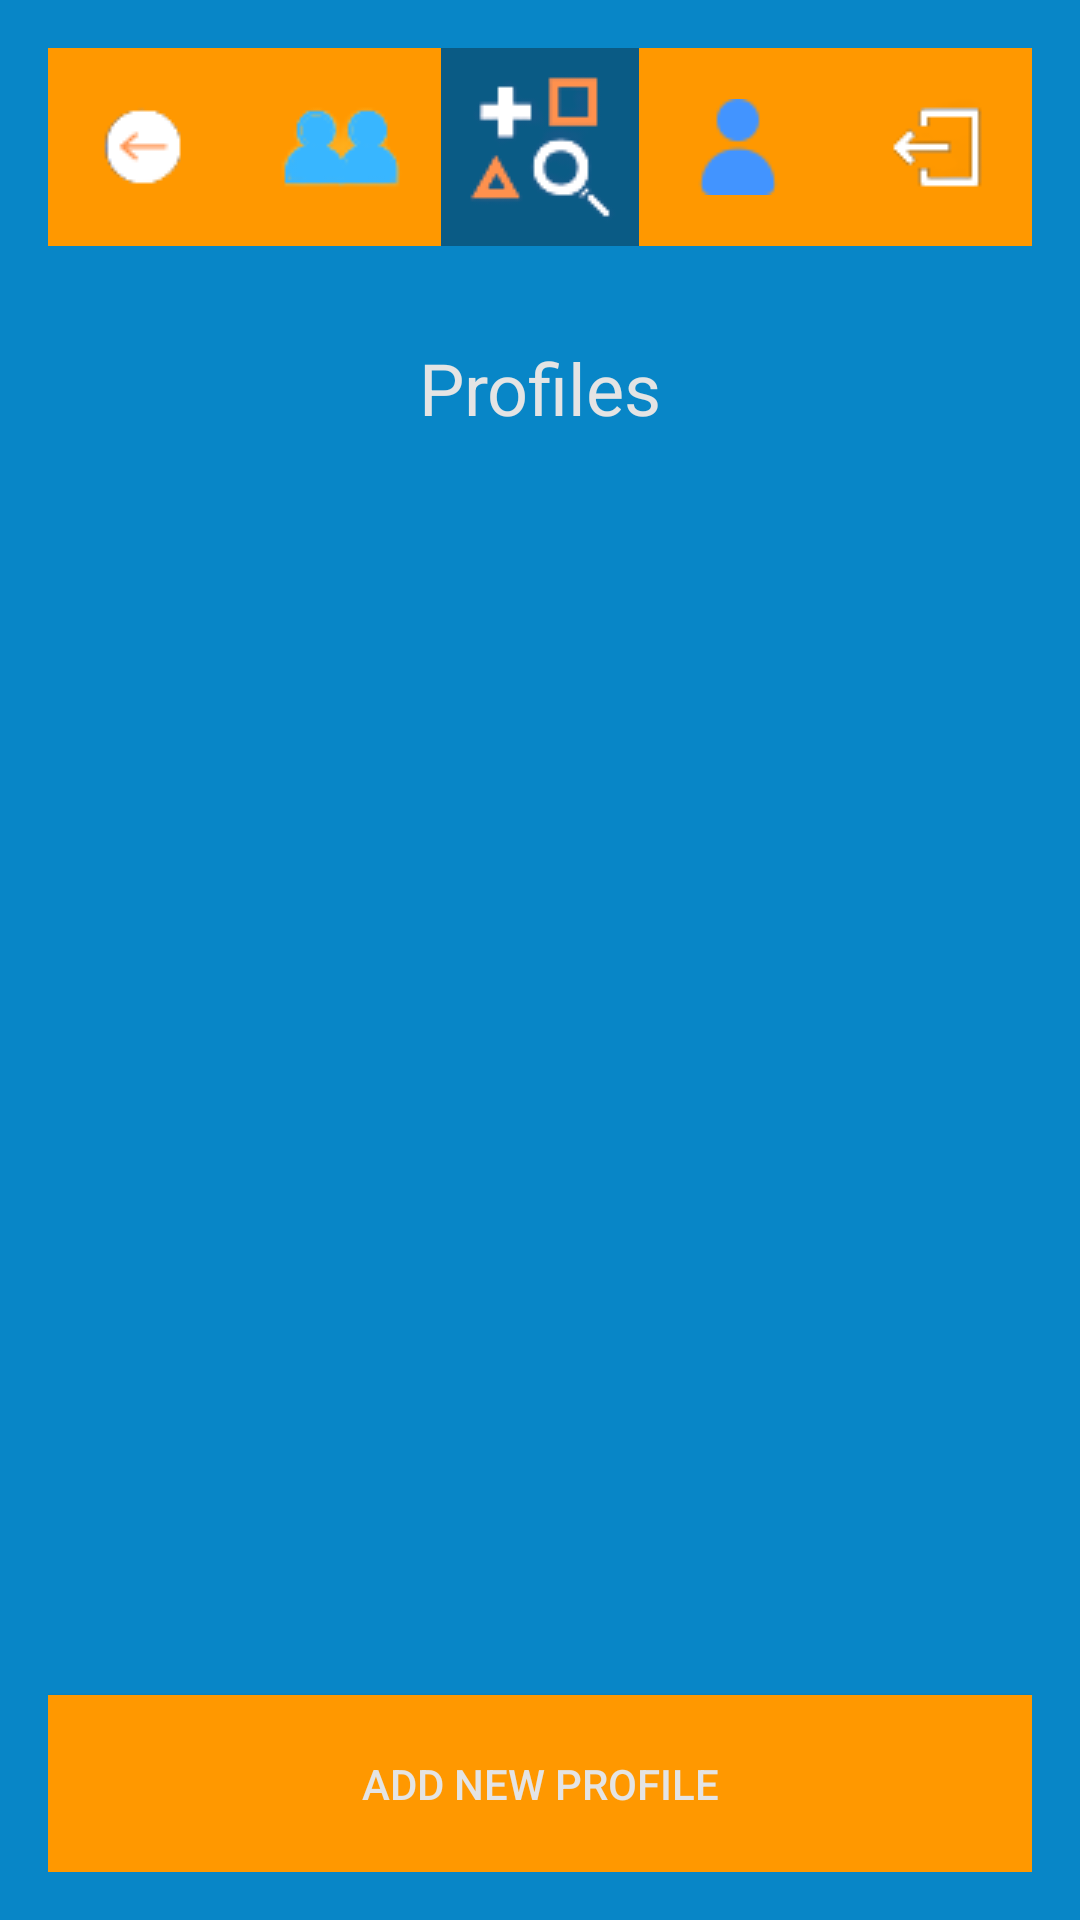

Point at icon controls on the screen. Image size 1080*1920, points as (x=x, y=y).
button profile description: (x=738, y=147)
